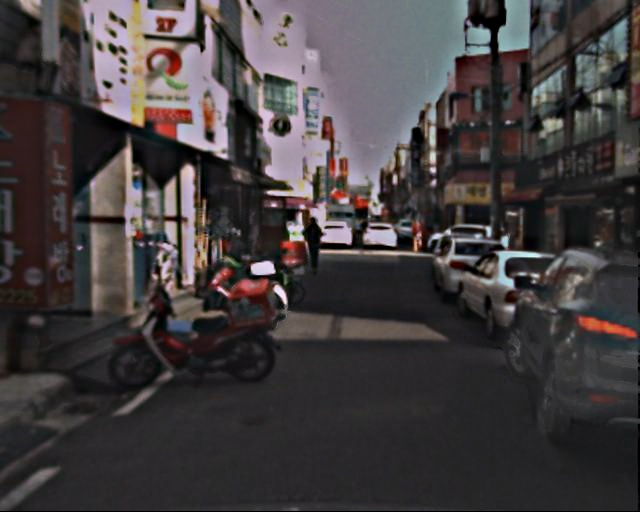person: (305, 215, 329, 272), (413, 219, 435, 255)
